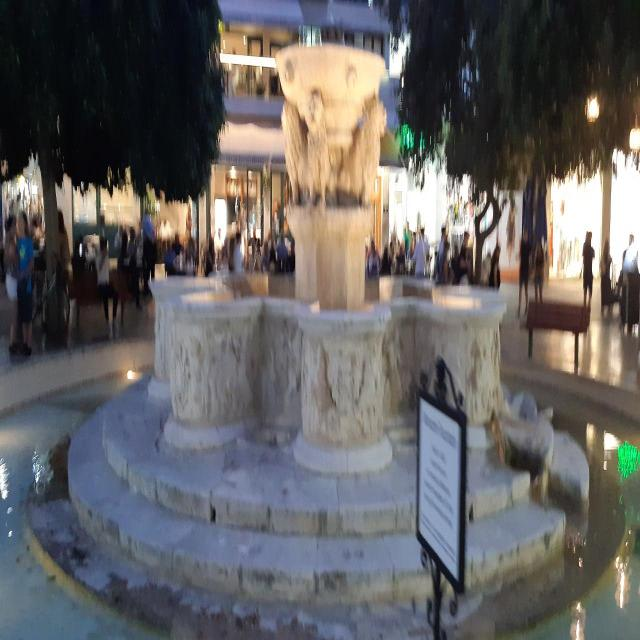Liontaria: (152, 46, 508, 479)
